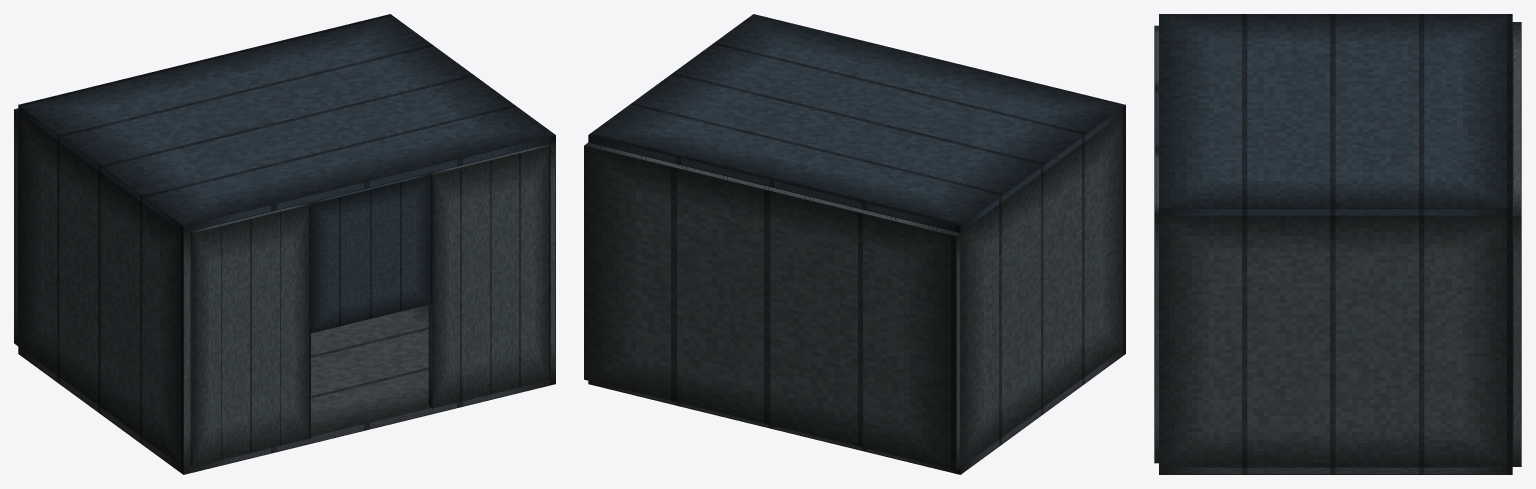
Rendered from sala_terminal.obj.
3 renders of one model, left to right at view 1: azimuth 30°, elevation 25°; view 2: azimuth 150°, elevation 25°; view 3: azimuth 270°, elevation 25°, orthographic. The views are drawn at different scales.
Size of the model in its own units: 10.4 by 6.65 by 8.3.
Materials: 5 (5 with a texture image).
